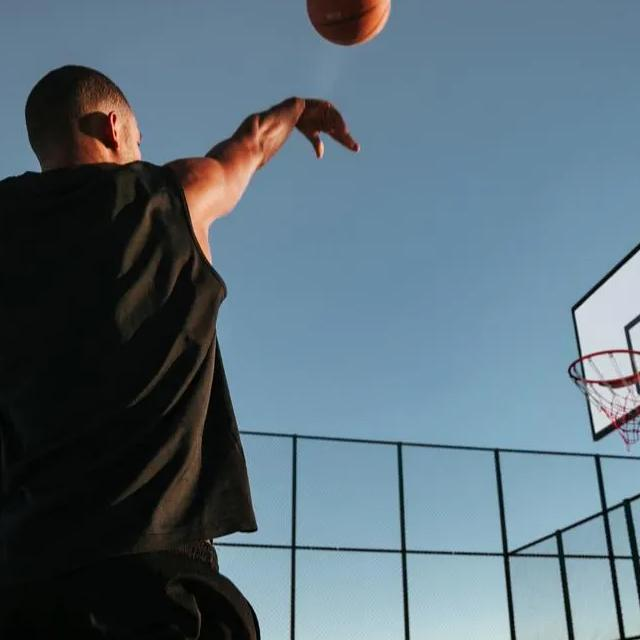basketball: (307, 0, 388, 48)
hoop: (571, 345, 640, 446)
